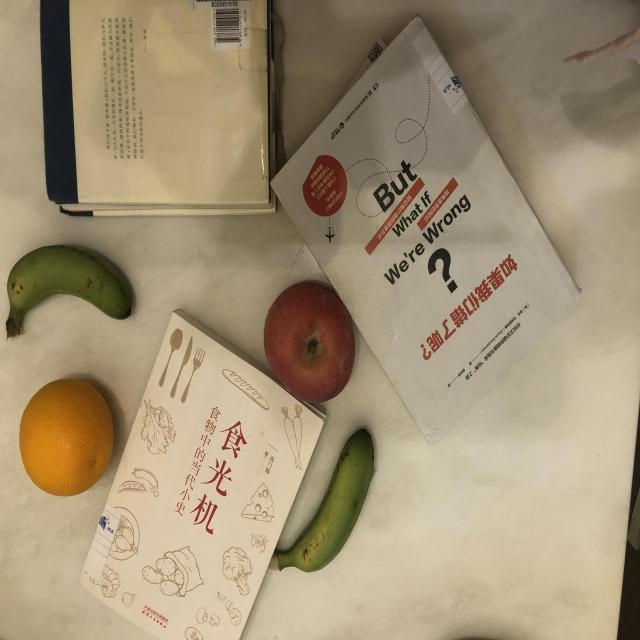Apple: (251, 278, 367, 410)
Banana: (270, 426, 390, 580), (0, 244, 137, 346)
Book: (269, 21, 583, 445), (60, 305, 340, 640), (31, 0, 293, 233)
Orange: (10, 358, 138, 506)
